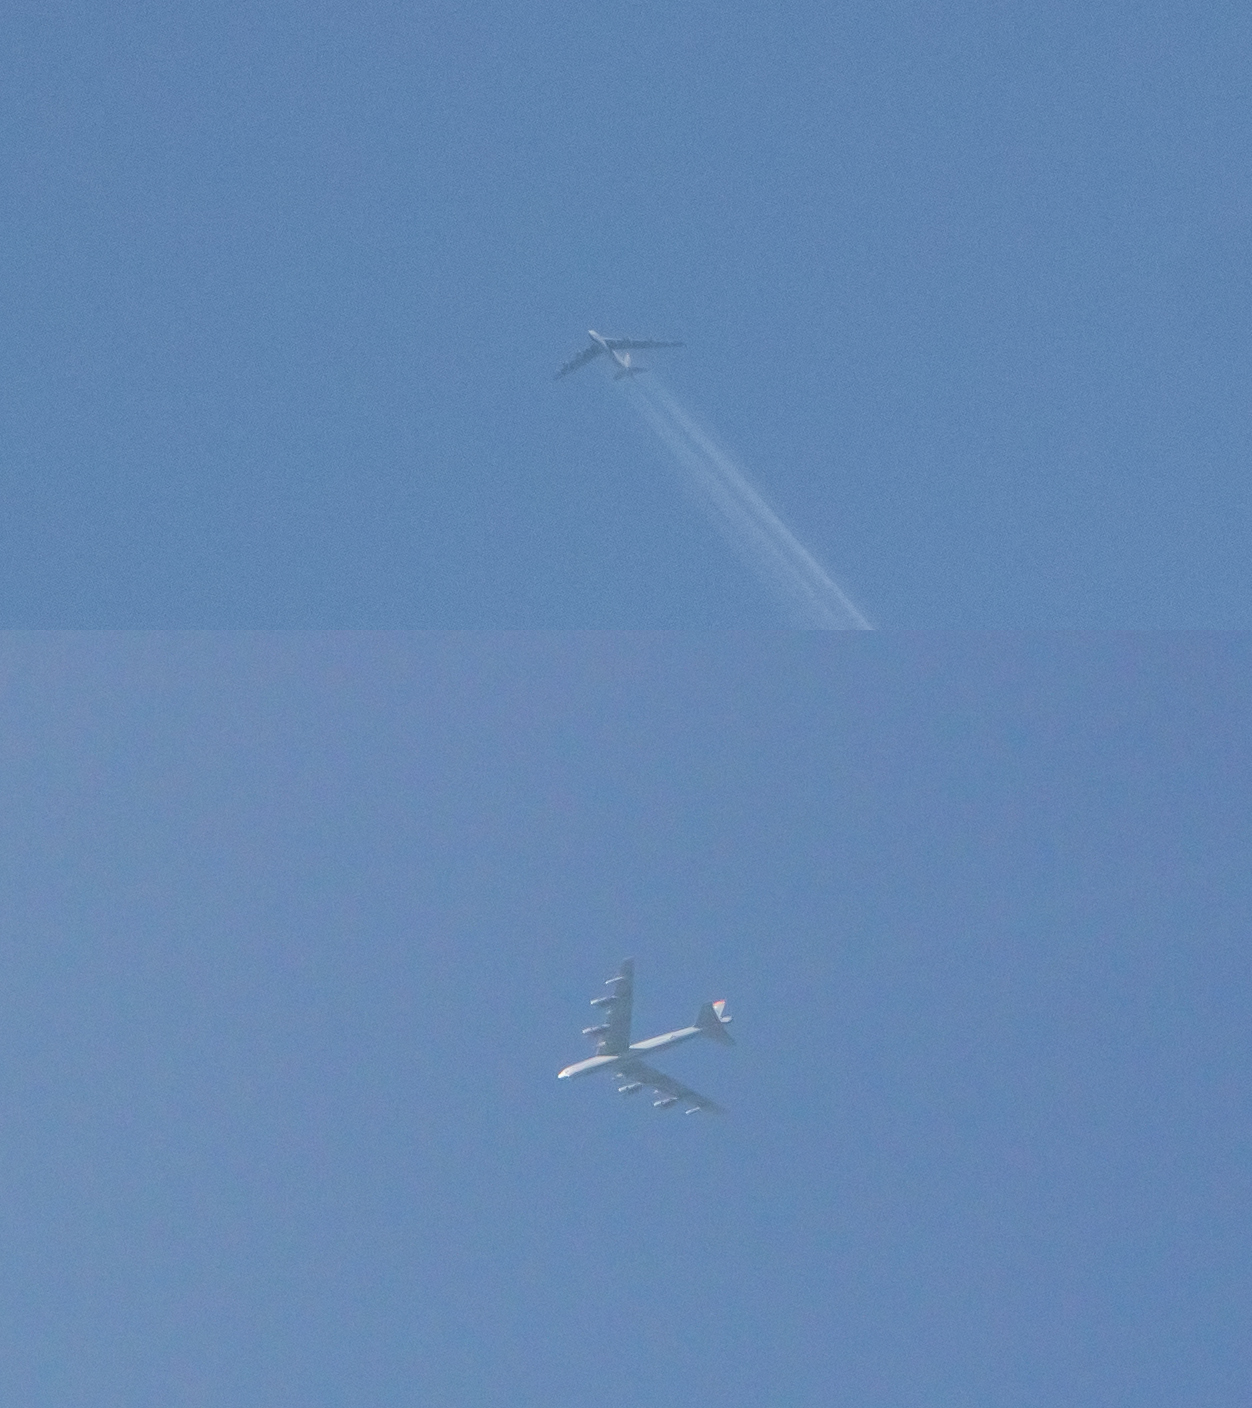B52: (557, 955, 738, 1117), (552, 329, 689, 383)
